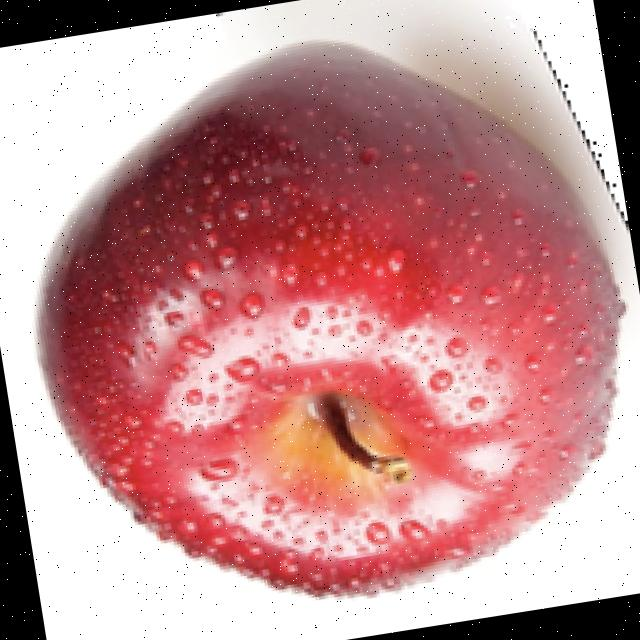apple: (29, 4, 634, 604)
